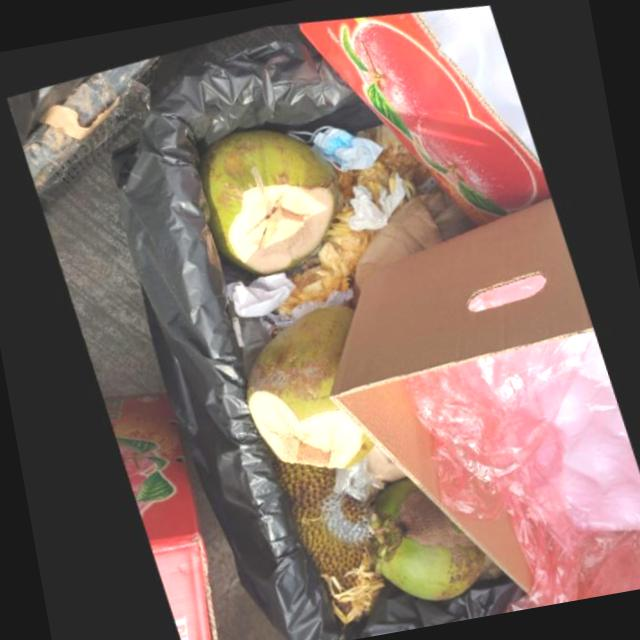carton: (326, 187, 589, 581), (293, 5, 545, 217)
giay: (223, 268, 291, 314)
khau_trang: (281, 120, 379, 166)
ong_hut_nhua: (245, 162, 267, 213)
vo_trai_cay: (242, 300, 372, 464), (191, 124, 335, 272), (271, 453, 381, 618), (359, 471, 482, 594), (272, 193, 369, 312)
